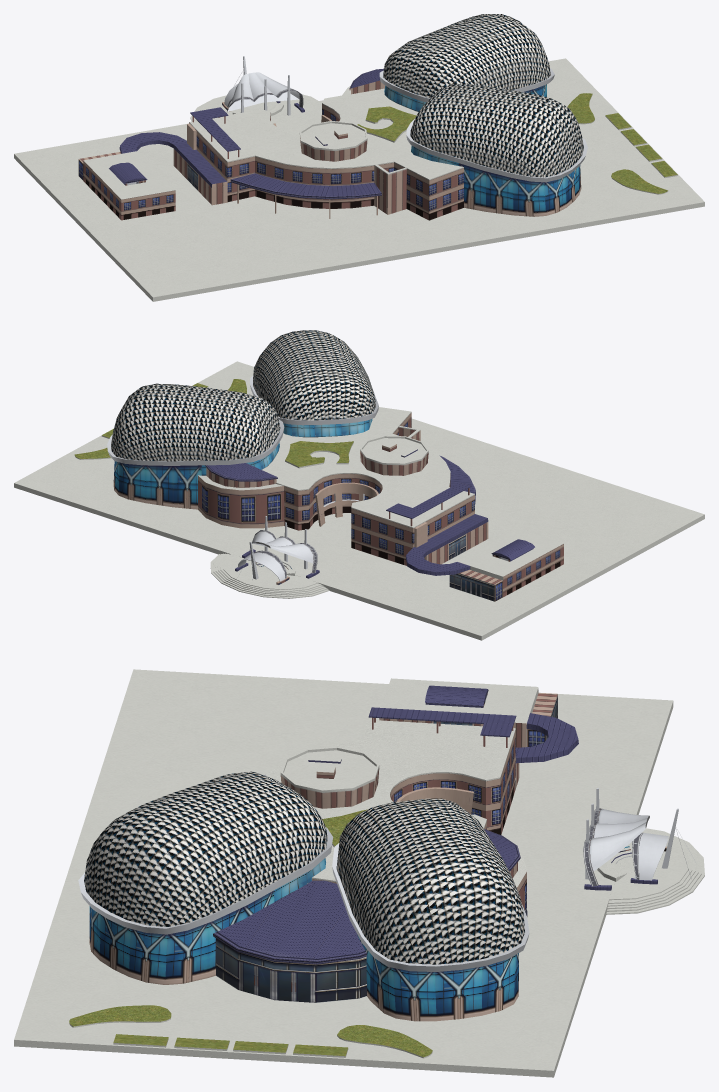
Rendered from Singapore_track_landmark_05.dae.
3 renders of one model, top to bottom at view 1: azimuth 30°, elevation 25°; view 2: azimuth 150°, elevation 25°; view 3: azimuth 270°, elevation 25°, orthographic. The views are drawn at different scales.
Parts seen in each view (by area): view 1: Singapore_track_landmark_05; view 2: Singapore_track_landmark_05; view 3: Singapore_track_landmark_05.
Part boxes in pixels (x1,y1,x2,y2): Singapore_track_landmark_05: [14, 14, 704, 301]; Singapore_track_landmark_05: [14, 330, 704, 640]; Singapore_track_landmark_05: [14, 669, 704, 1077].
Bounding box in the file's own units: 30.05 × 21.86 × 5.1.
5 materials, 4 textured.
